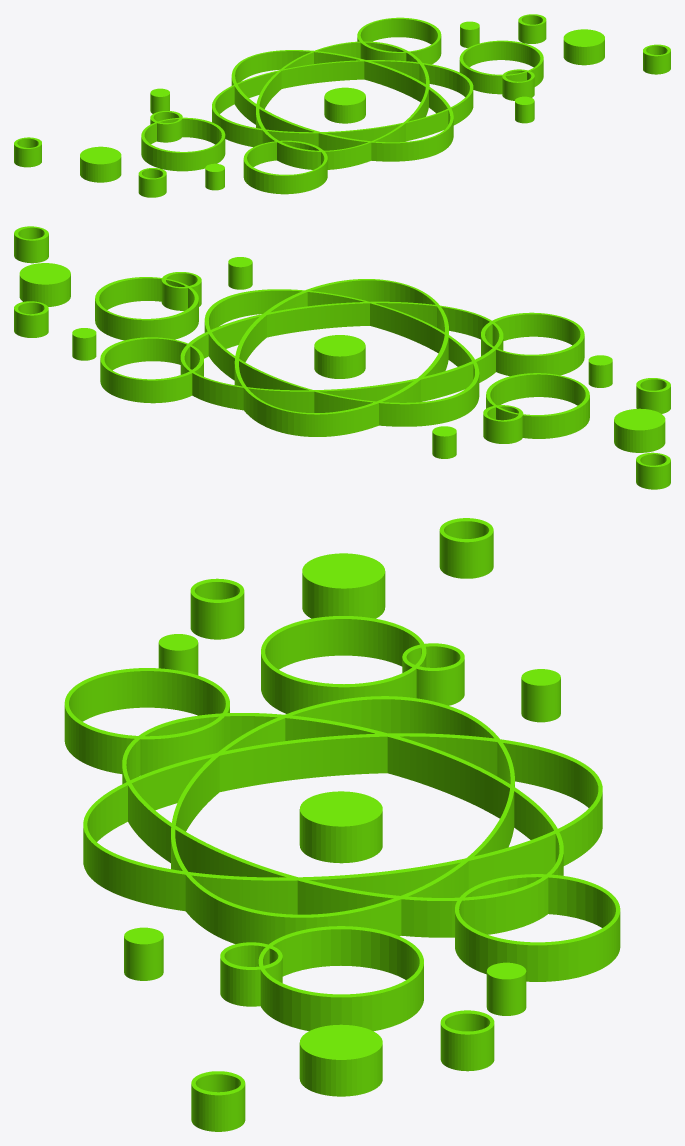
Rendered from spring-reactive.glb.
3 renders of one model, top to bottom at view 1: azimuth 30°, elevation 25°; view 2: azimuth 150°, elevation 25°; view 3: azimuth 270°, elevation 25°, orthographic. The views are drawn at different scales.
Visible parts, largest first — view 1: Curve.349, Curve.002, Curve.372, Curve.003, Curve.373, Curve.369, Curve.345, Curve.355, Curve.351, Curve.359, Curve.357, Curve.001 (+18 smaller); view 2: Curve.369, Curve.373, Curve.351, Curve.003, Curve.002, Curve.372, Curve.359, Curve.349, Curve.357, Curve.347, Curve.353, Curve.345 (+18 smaller); view 3: Curve.372, Curve.003, Curve.373, Curve.002, Curve.347, Curve.349, Curve.357, Curve.351, Curve.359, Curve.365, Curve.363, Curve.370 (+17 smaller).
Part boxes in pixels (x1=…): Curve.349: x1=371, y1=108, x2=453, y2=161; Curve.002: x1=141, y1=117, x2=225, y2=171; Curve.372: x1=459, y1=40, x2=543, y2=94; Curve.003: x1=243, y1=140, x2=327, y2=194; Curve.373: x1=357, y1=17, x2=441, y2=64; Curve.369: x1=256, y1=60, x2=428, y2=141; Curve.345: x1=262, y1=129, x2=373, y2=169; Curve.355: x1=279, y1=51, x2=369, y2=88; Curve.351: x1=231, y1=50, x2=315, y2=97; Curve.359: x1=212, y1=83, x2=266, y2=147; Curve.357: x1=419, y1=63, x2=473, y2=125; Curve.001: x1=80, y1=146, x2=121, y2=182; Curve.369: x1=235, y1=302, x2=448, y2=400; Curve.373: x1=100, y1=337, x2=203, y2=403; Curve.351: x1=243, y1=386, x2=379, y2=436; Curve.003: x1=481, y1=312, x2=584, y2=376; Curve.002: x1=486, y1=373, x2=589, y2=438; Curve.372: x1=95, y1=277, x2=198, y2=340; Curve.359: x1=376, y1=360, x2=479, y2=426; Curve.349: x1=303, y1=279, x2=439, y2=327; Curve.357: x1=204, y1=289, x2=309, y2=348; Curve.347: x1=180, y1=331, x2=247, y2=410; Curve.353: x1=367, y1=301, x2=448, y2=353; Curve.345: x1=436, y1=305, x2=503, y2=382; Curve.372: x1=258, y1=926, x2=423, y2=1031; Curve.003: x1=64, y1=668, x2=229, y2=775; Curve.373: x1=455, y1=874, x2=620, y2=981; Curve.002: x1=261, y1=616, x2=426, y2=713; Curve.347: x1=397, y1=829, x2=563, y2=937; Curve.349: x1=83, y1=781, x2=189, y2=911; Curve.357: x1=183, y1=871, x2=403, y2=944; Curve.351: x1=495, y1=738, x2=602, y2=865; Curve.359: x1=280, y1=696, x2=502, y2=775; Curve.365: x1=377, y1=733, x2=514, y2=818; Curve.363: x1=212, y1=715, x2=396, y2=780; Curve.370: x1=299, y1=791, x2=382, y2=863.
Size of the model in its own units: 5.01 by 0.1484 by 2.04.
